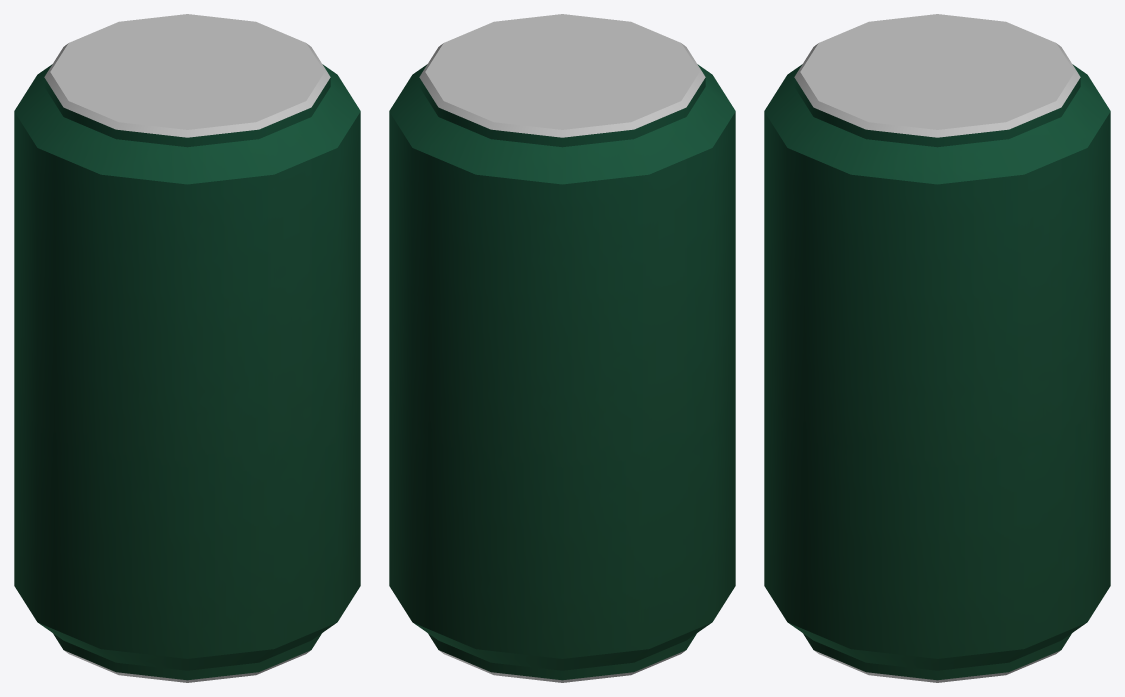
Rendered from Can.fbx.
The picture shows the model from 3 angles, left to right: view 1: azimuth 30°, elevation 25°; view 2: azimuth 150°, elevation 25°; view 3: azimuth 270°, elevation 25°; orthographic projection.
Visible parts, largest first — view 1: Can; view 2: Can; view 3: Can.
Boxes of the visible parts, box(x1,y1,x2,y2) form: Can: box(14, 14, 360, 682); Can: box(389, 14, 735, 682); Can: box(764, 14, 1110, 682).
Bounding box in the file's own units: 19.26 × 33.9 × 19.26.
